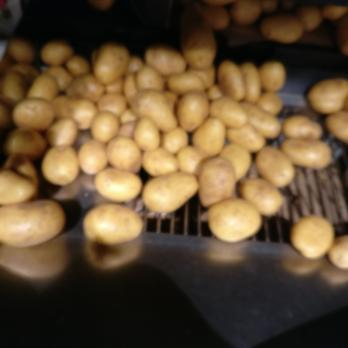Solid potato: (4, 41, 276, 247), (203, 0, 348, 43), (285, 216, 348, 271), (282, 112, 331, 171), (305, 78, 348, 143)
